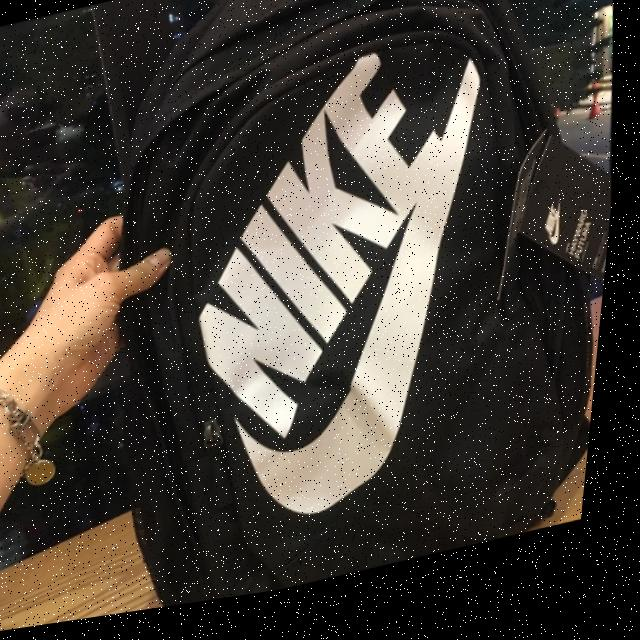backpack: (31, 0, 640, 631)
